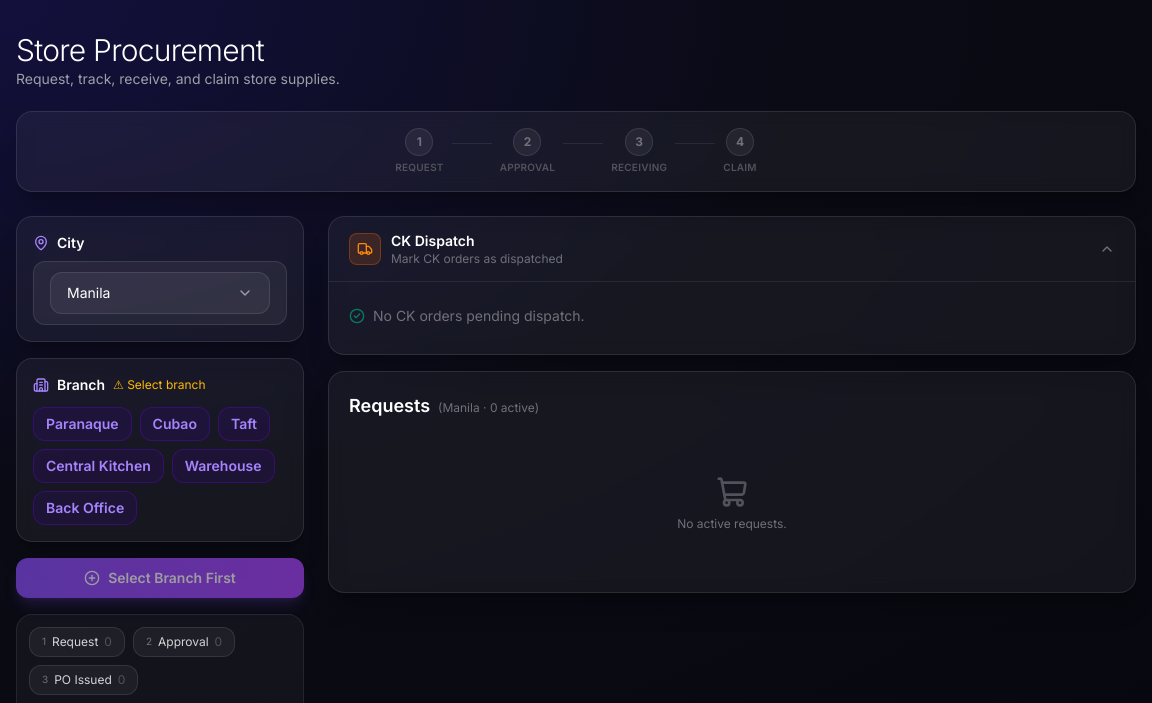
Test: StoreProcurementHomePage › Branch selector — Manila › activates branch on click and shows confirmation label
Click the button "Paranaque".
click(82, 424)  # box [33,407,132,441]
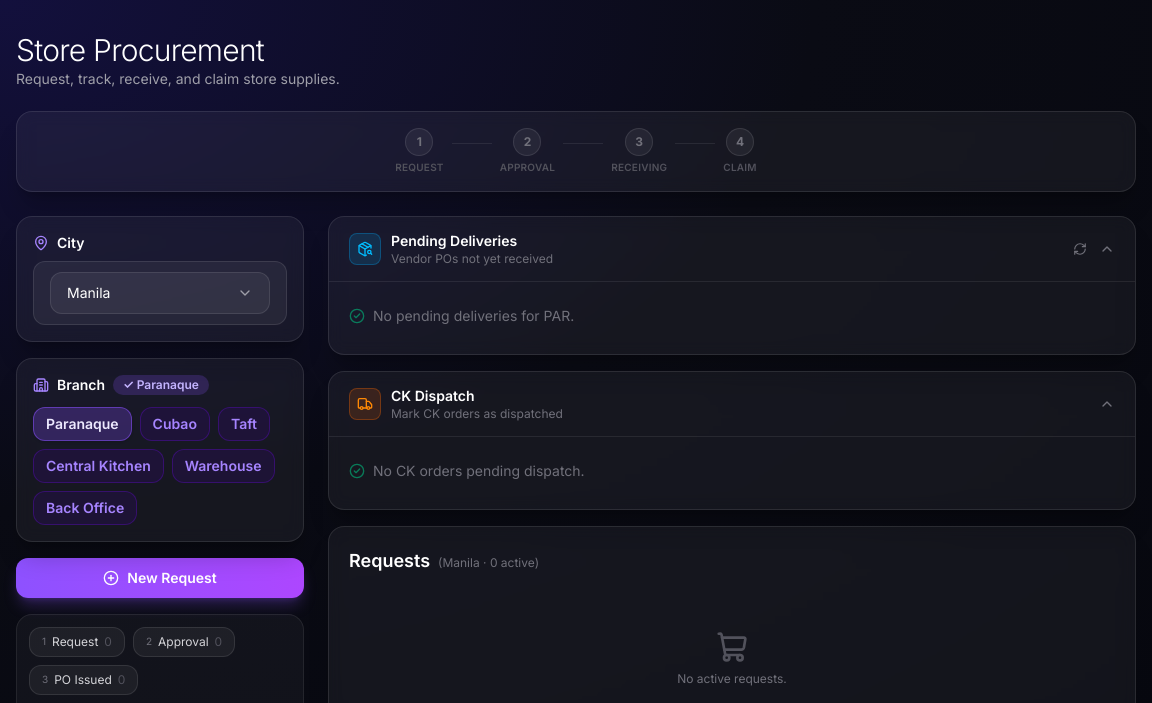
Expected: the text "✓ Paranaque" is shown, [113,375,209,395]
